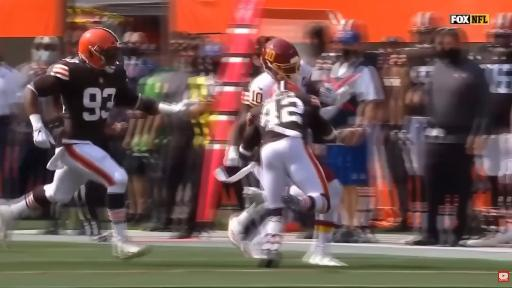Helmet: (78, 28, 119, 71), (261, 38, 300, 80), (410, 12, 441, 44), (32, 37, 60, 65), (486, 13, 511, 44), (335, 19, 366, 42)
Jersey: (30, 59, 139, 143), (243, 91, 334, 148), (470, 45, 511, 129), (400, 47, 435, 97), (242, 72, 278, 106)
Player: (0, 28, 180, 258), (239, 90, 336, 259), (461, 13, 511, 246), (304, 166, 342, 263)
